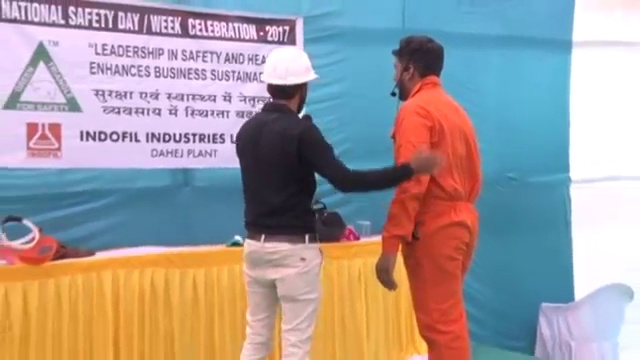helmet: (260, 44, 319, 86)
helmet_off: (387, 35, 444, 101)
helmet_on: (257, 44, 319, 114)
person: (231, 45, 448, 360), (375, 34, 482, 360)
